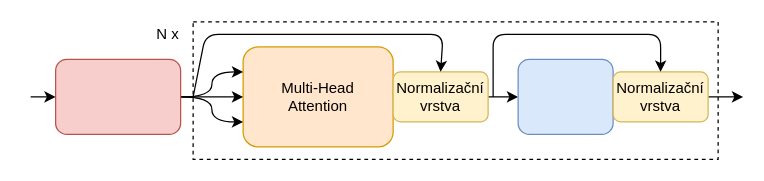
The diagram is 764 pixels wide and 181 high, and some of its shapes have lost their labels. Here are the shapes that lost their labels. From the top down, the centre of each, then its label:
the point at 117,96: Vstupní a poziční kódování
the point at 565,96: Lineární dopředná vrstva
